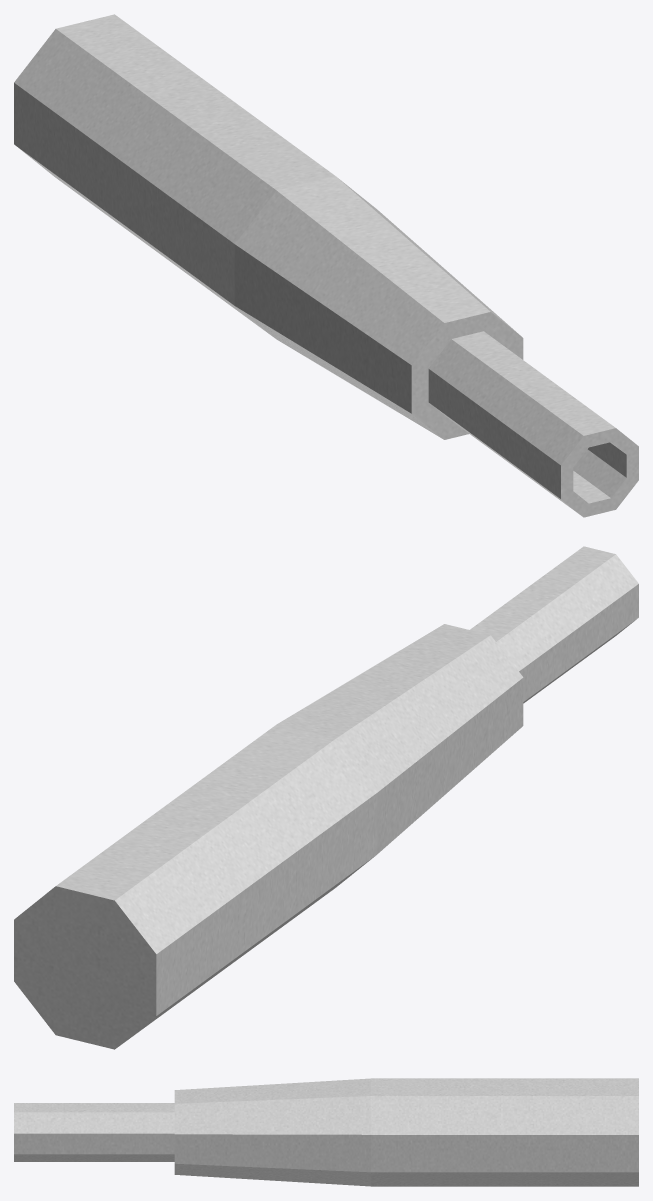
File: Narushat-C_gun1.obj
3 views of the same model, one above another, from view 1: azimuth 30°, elevation 25°; view 2: azimuth 150°, elevation 25°; view 3: azimuth 270°, elevation 25° (orthographic). The views are drawn at different scales.
Parts seen in each view (by area): view 1: Cylinder.002; view 2: Cylinder.002; view 3: Cylinder.002.
Boxes of the visible parts, x1,y1,x2,y2 form: Cylinder.002: (14, 14, 638, 517); Cylinder.002: (14, 546, 638, 1049); Cylinder.002: (14, 1078, 638, 1186).
Size of the model in its own units: 0.0586 by 0.0586 by 0.3664.
